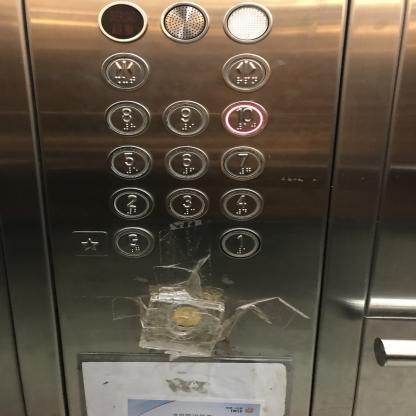1: (217, 227, 262, 259)
10: (220, 99, 269, 138)
2: (108, 186, 155, 221)
3: (162, 186, 210, 221)
4: (218, 187, 265, 222)
5: (104, 145, 153, 180)
6: (162, 145, 210, 181)
7: (218, 146, 267, 181)
8: (102, 99, 151, 138)
9: (160, 99, 210, 138)
G: (110, 226, 156, 258)
close: (99, 52, 150, 92)
empty: (222, 1, 274, 44)
open: (220, 52, 272, 92)
s: (69, 230, 109, 257)
speaker: (158, 1, 210, 43)
text_overload: (97, 0, 148, 42)
